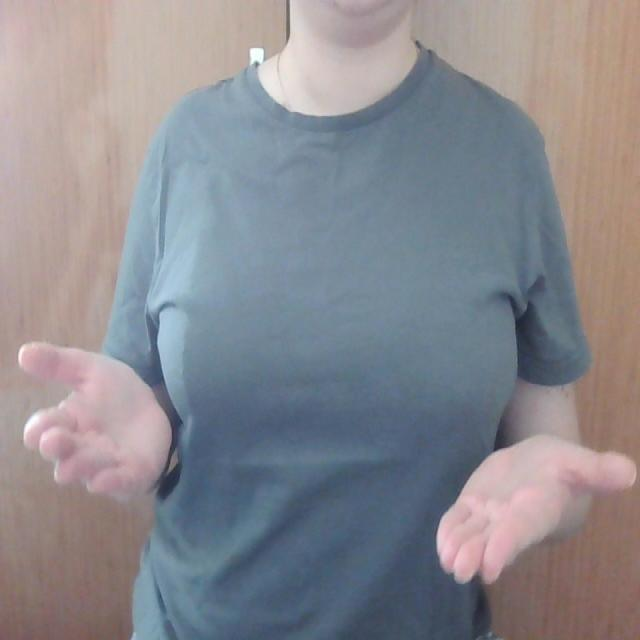Evet: (16, 336, 640, 587)
